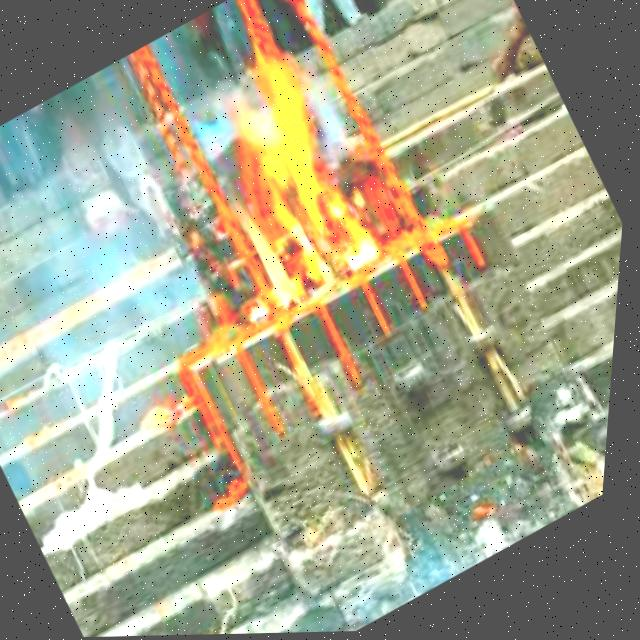Fire: (147, 41, 412, 335)
